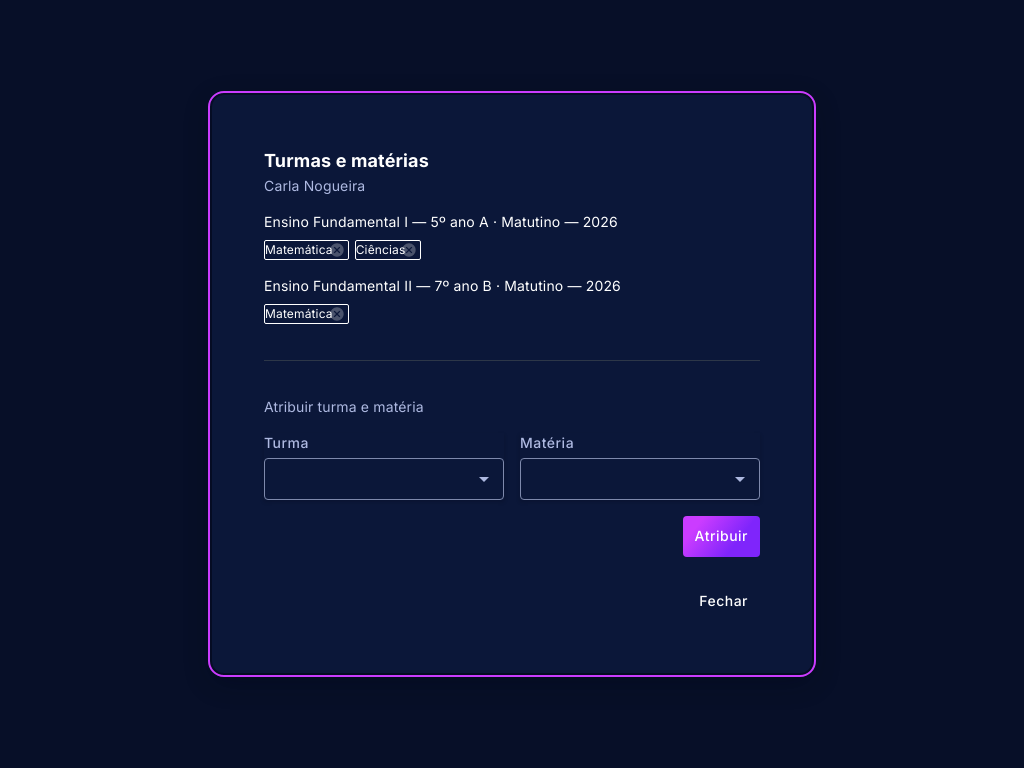
Test case: TeacherAssignmentsDialog › reports a duplicate assignment from the API
Click the 1st dropdown named "turma".
click(384, 479)  # box [275, 469, 493, 489]
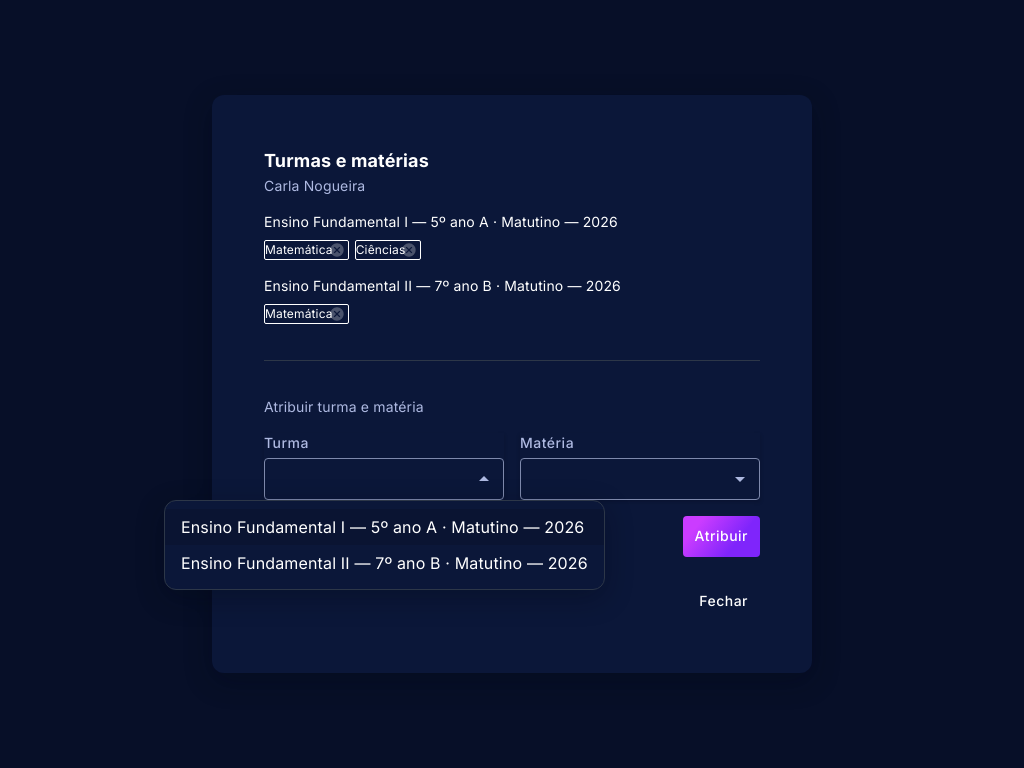
Click the option "Ensino Fundamental I — 5º ano A · Matutino — 2026".
click(384, 527)  # box [165, 509, 604, 545]
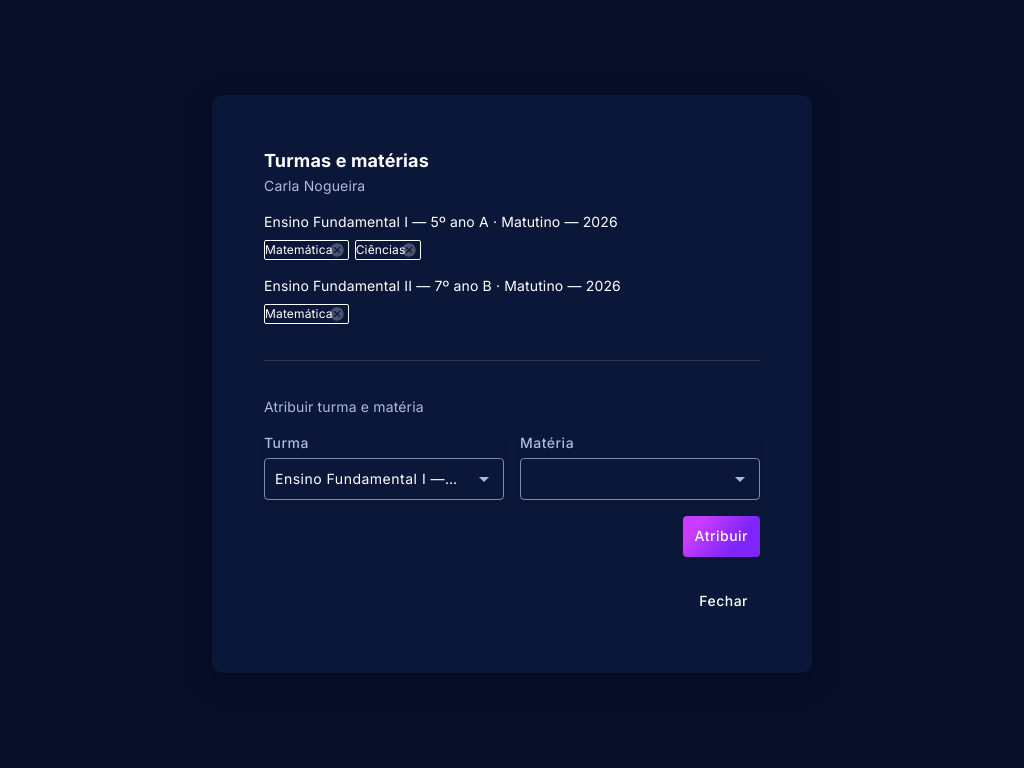
Click the dropdown named "matéria".
click(640, 479)  # box [531, 469, 749, 489]
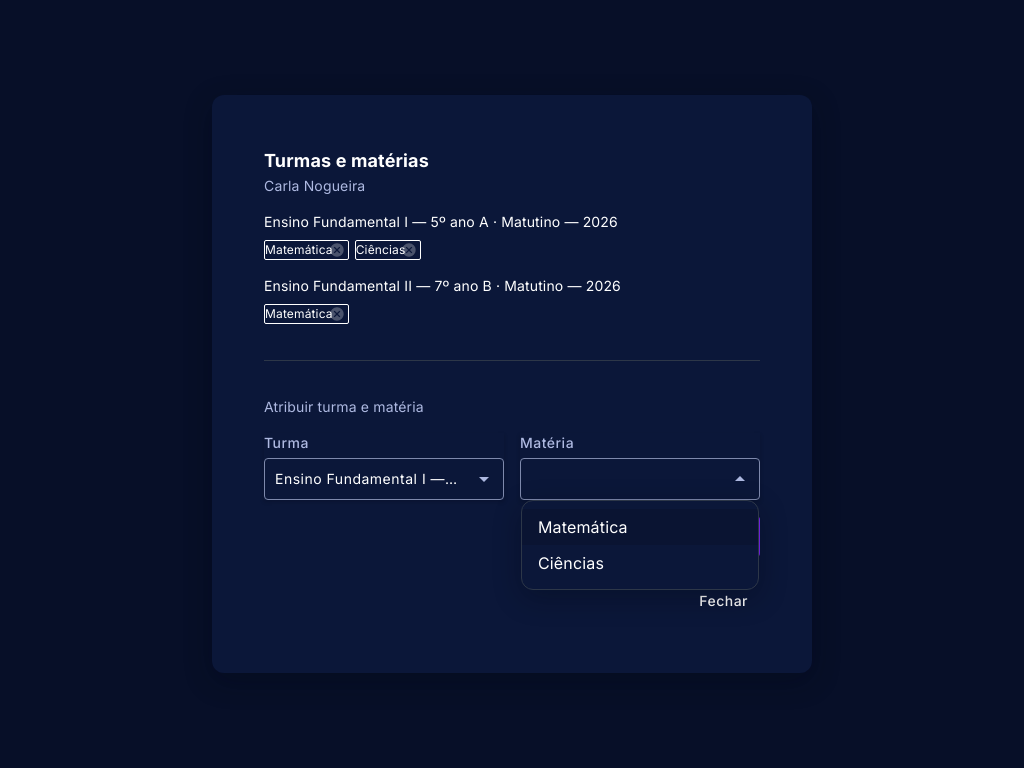
Click the option "Matemática".
click(640, 527)  # box [522, 509, 758, 545]
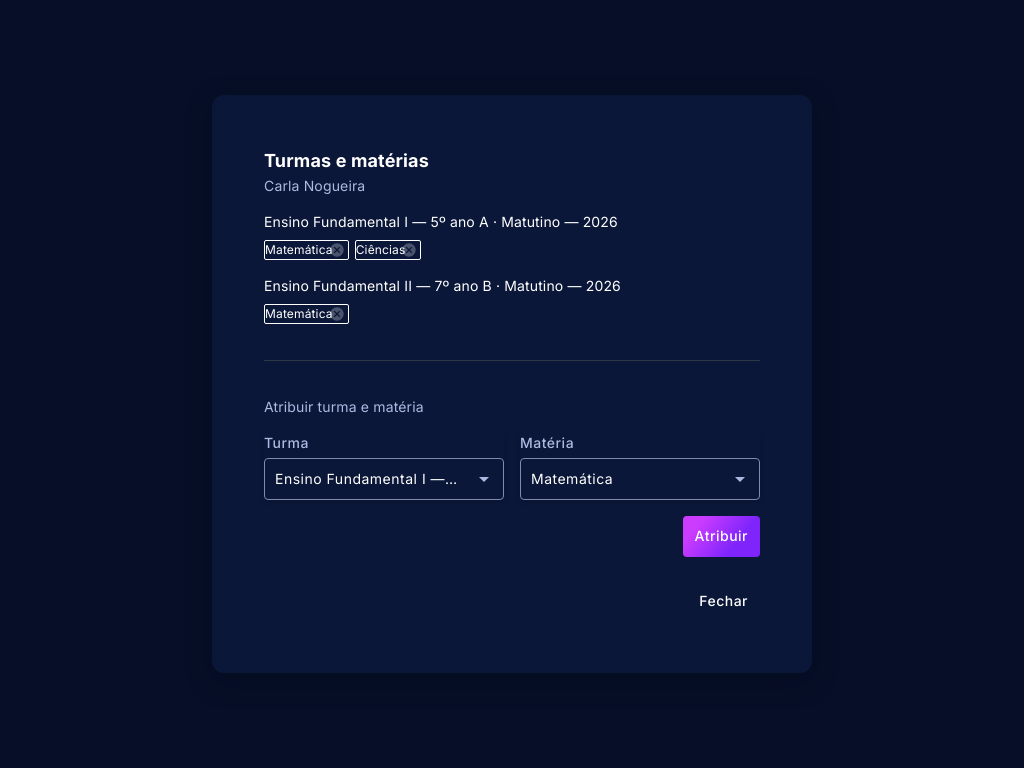
Click the button "Atribuir".
click(721, 537)  # box [682, 516, 760, 557]
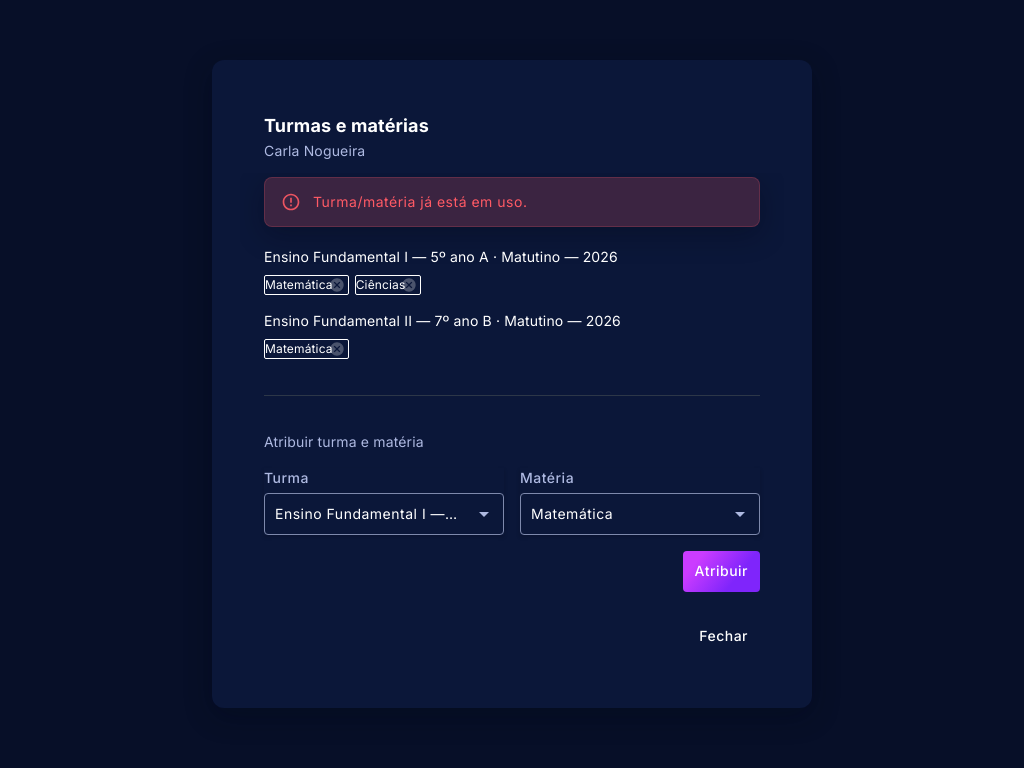
expect the text "Turma/matéria já está em uso." is shown: met, box [313, 192, 527, 210]
